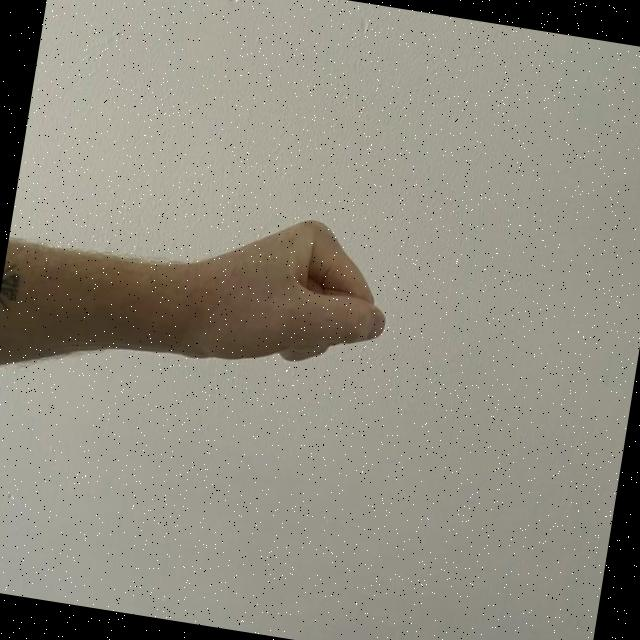rock: (111, 189, 404, 408)
